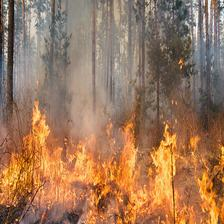fire: (8, 103, 217, 220)
